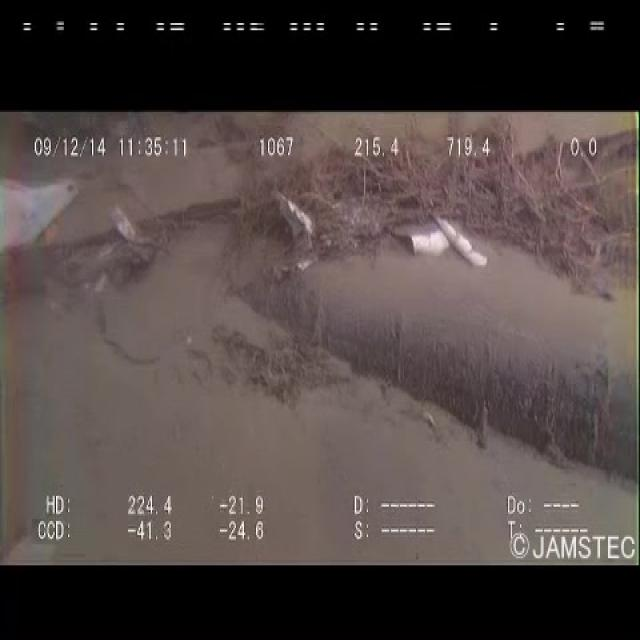plastic: (386, 199, 498, 288), (272, 181, 353, 290), (105, 198, 164, 268)
